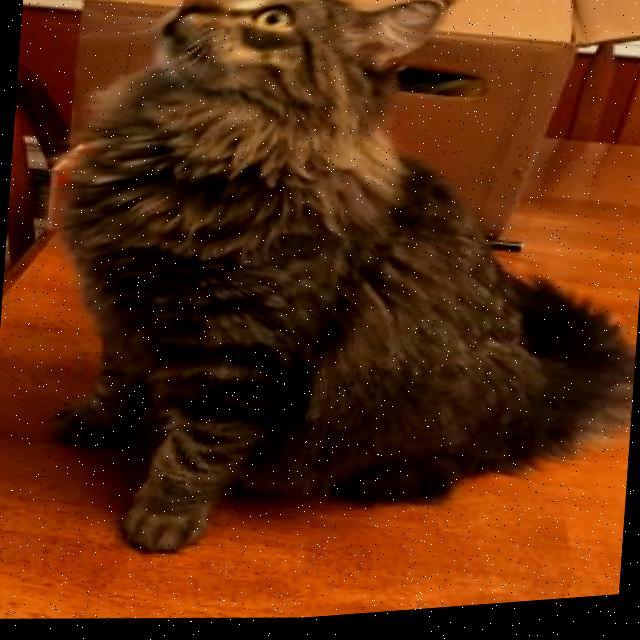Maine Coon: (27, 0, 640, 601)
